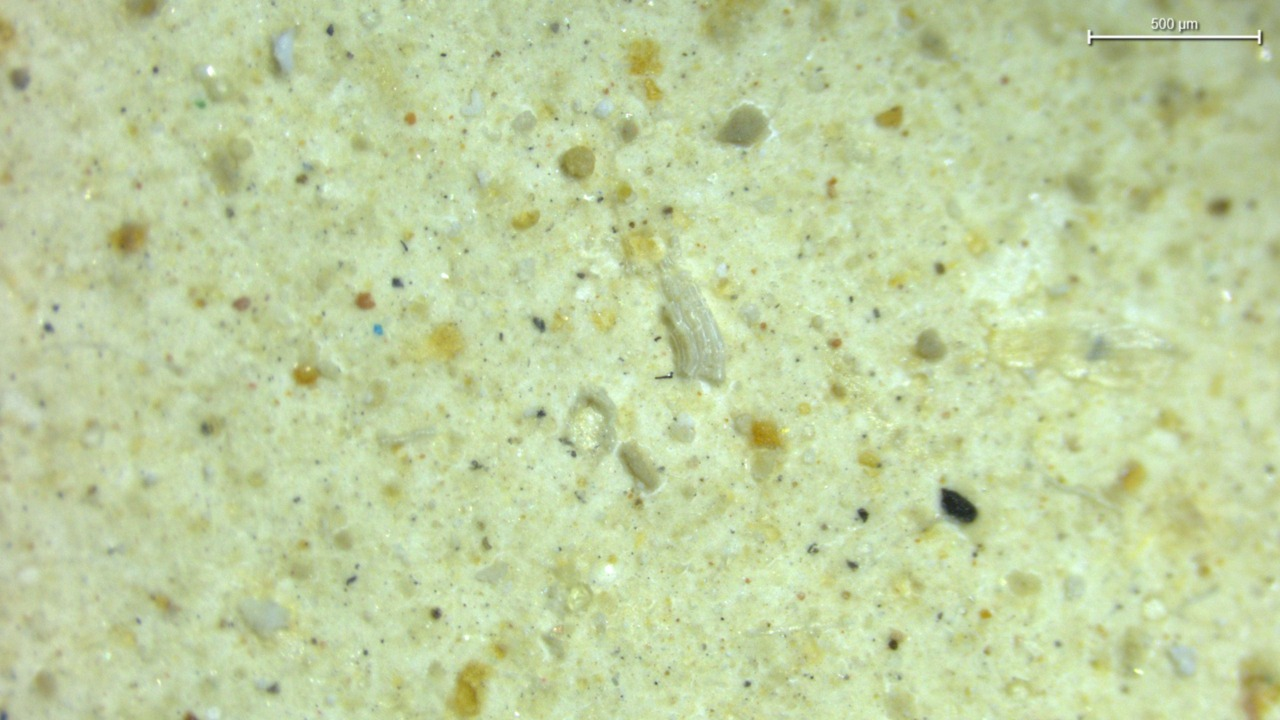microplastic_fragment: (659, 255, 725, 385), (620, 442, 661, 490), (561, 146, 595, 180)
